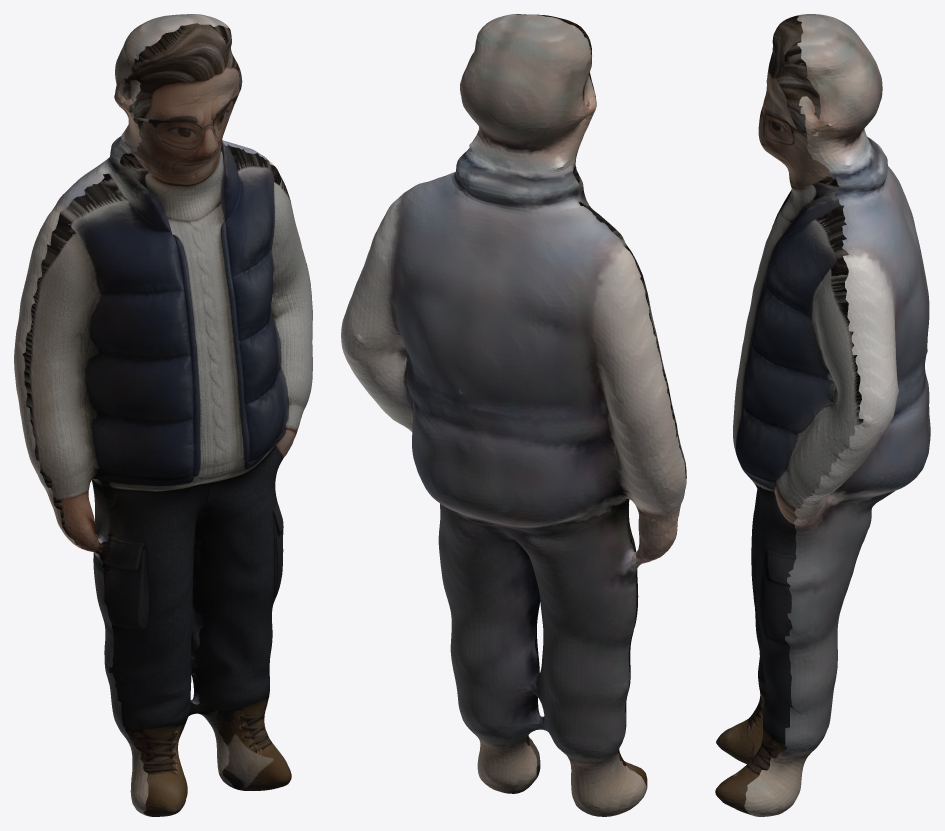
Rendered from boss.glb.
3 renders of one model, left to right at view 1: azimuth 30°, elevation 25°; view 2: azimuth 150°, elevation 25°; view 3: azimuth 270°, elevation 25°, orthographic. The views are drawn at different scales.
Parts seen in each view (by area): view 1: body_t, legR_t, legL_t, body_c, legL_c, legR_c; view 2: body_c, legL_c, legR_c, body_t; view 3: body_c, body_t, legR_c, legR_t, legL_t.
Part boxes in pixels (left/top/right/bottom): body_t: left=22, top=23, right=312, bottom=553; legR_t: left=191, top=493, right=291, bottom=790; legL_t: left=97, top=518, right=197, bottom=816; body_c: left=14, top=14, right=275, bottom=554; legL_c: left=93, top=513, right=192, bottom=816; legR_c: left=191, top=518, right=282, bottom=789; body_c: left=341, top=14, right=686, bottom=568; legL_c: left=521, top=538, right=646, bottom=816; legR_c: left=438, top=514, right=541, bottom=793; body_t: left=516, top=14, right=686, bottom=537; body_c: left=794, top=14, right=930, bottom=551; body_t: left=733, top=15, right=863, bottom=549; legR_c: left=744, top=527, right=869, bottom=816; legR_t: left=715, top=527, right=796, bottom=814; legL_t: left=716, top=489, right=765, bottom=763.
Bounding box in the file's own units: 0.4055 × 0.9869 × 0.2516.
1 material, 1 textured.
